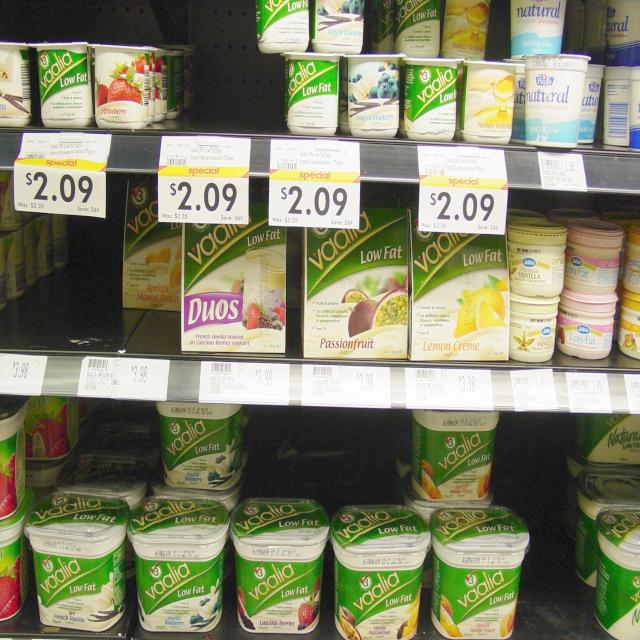empty_space: (526, 423, 586, 627), (20, 220, 120, 328), (177, 13, 247, 123)
